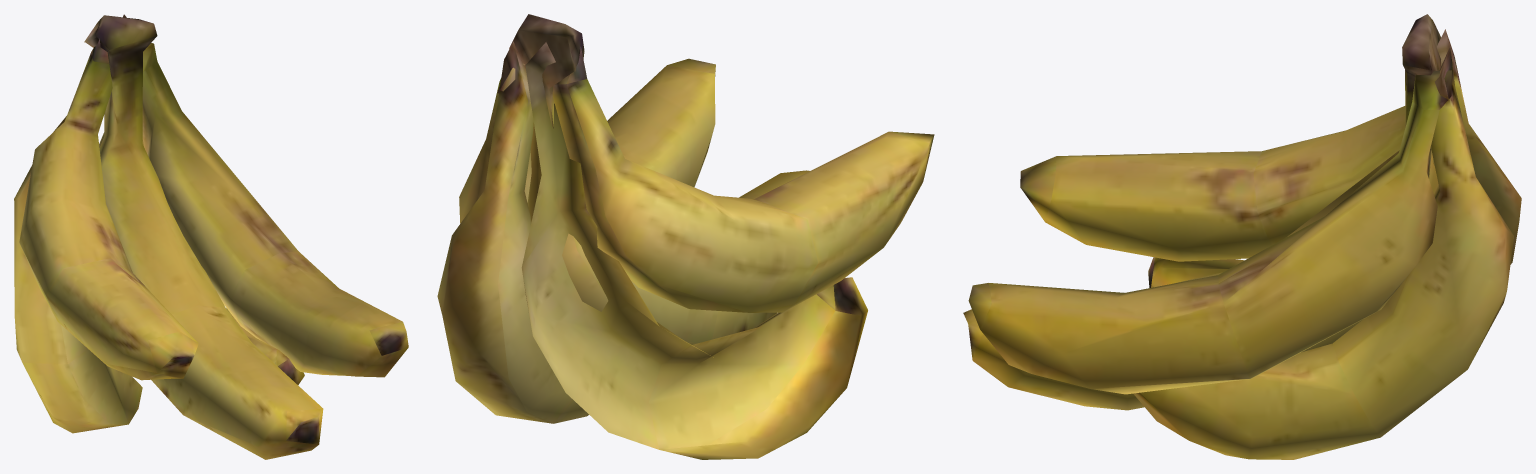
Rendered from bananas.glb.
3 views of the same model, side by side, from view 1: azimuth 30°, elevation 25°; view 2: azimuth 150°, elevation 25°; view 3: azimuth 270°, elevation 25° (orthographic). The views are drawn at different scales.
Visible parts, largest first — view 1: bananas; view 2: bananas; view 3: bananas.
Part boxes in pixels (x1,y1,x2,y2): bananas: (14, 14, 408, 459); bananas: (437, 14, 934, 459); bananas: (963, 14, 1521, 459).
Size of the model in its own units: 0.1323 by 0.1786 by 0.2208.
1 material, 1 textured.
